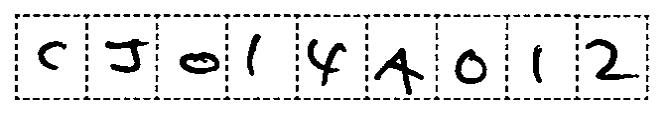0: (449, 43, 492, 89), (175, 44, 223, 82)
1: (233, 31, 270, 80), (519, 39, 553, 89)
2: (581, 35, 642, 85)
4: (304, 34, 349, 92)
A: (372, 44, 427, 97)
C: (28, 34, 72, 74)
J: (100, 36, 152, 78)
